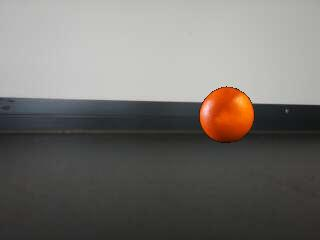Orange: (198, 84, 255, 144)
